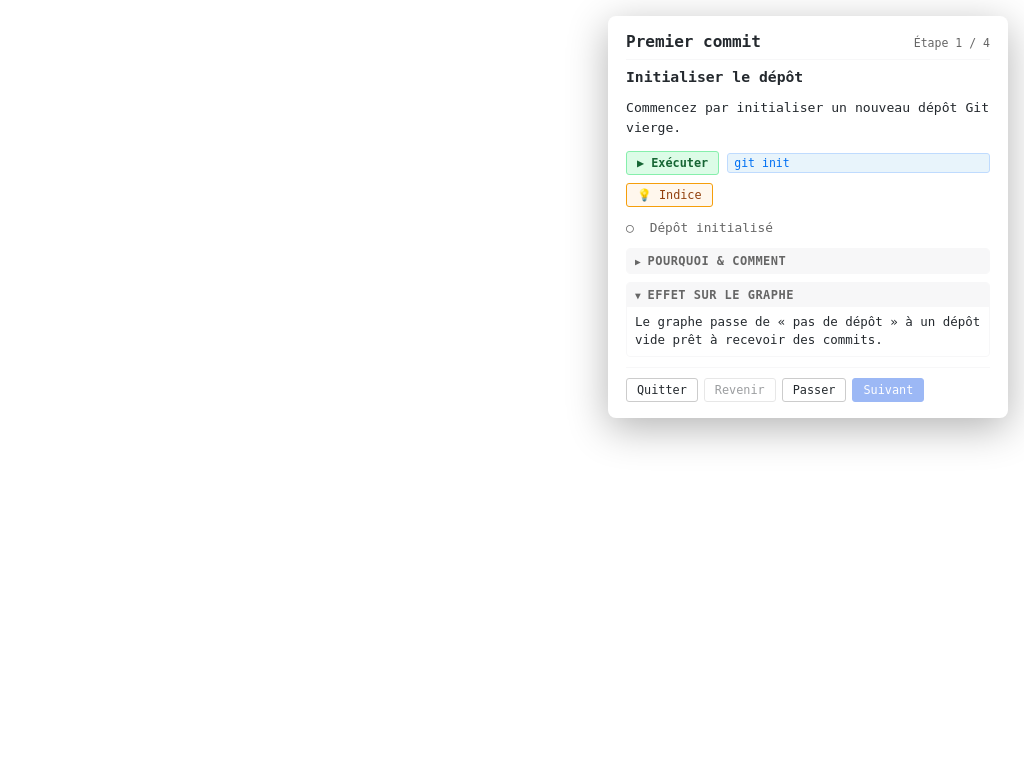
Test: GuidedTutorialModal › CA-06 : « Indice » affiche le hint et incrémente le compteur
The width and height of the screenshot is (1024, 768).
Click the button "💡 Indice" at (669, 195), box x1=626 y1=183 x2=713 y2=207
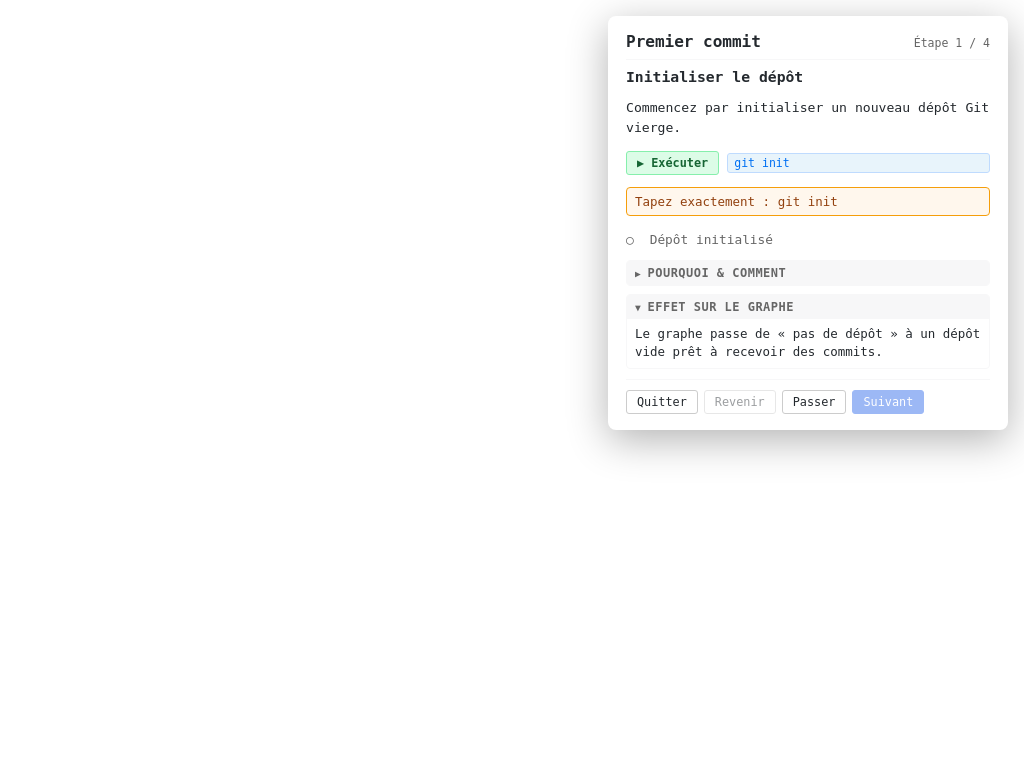
Result: the text "Tapez exactement : git init" is shown at x1=626 y1=187 x2=990 y2=216
